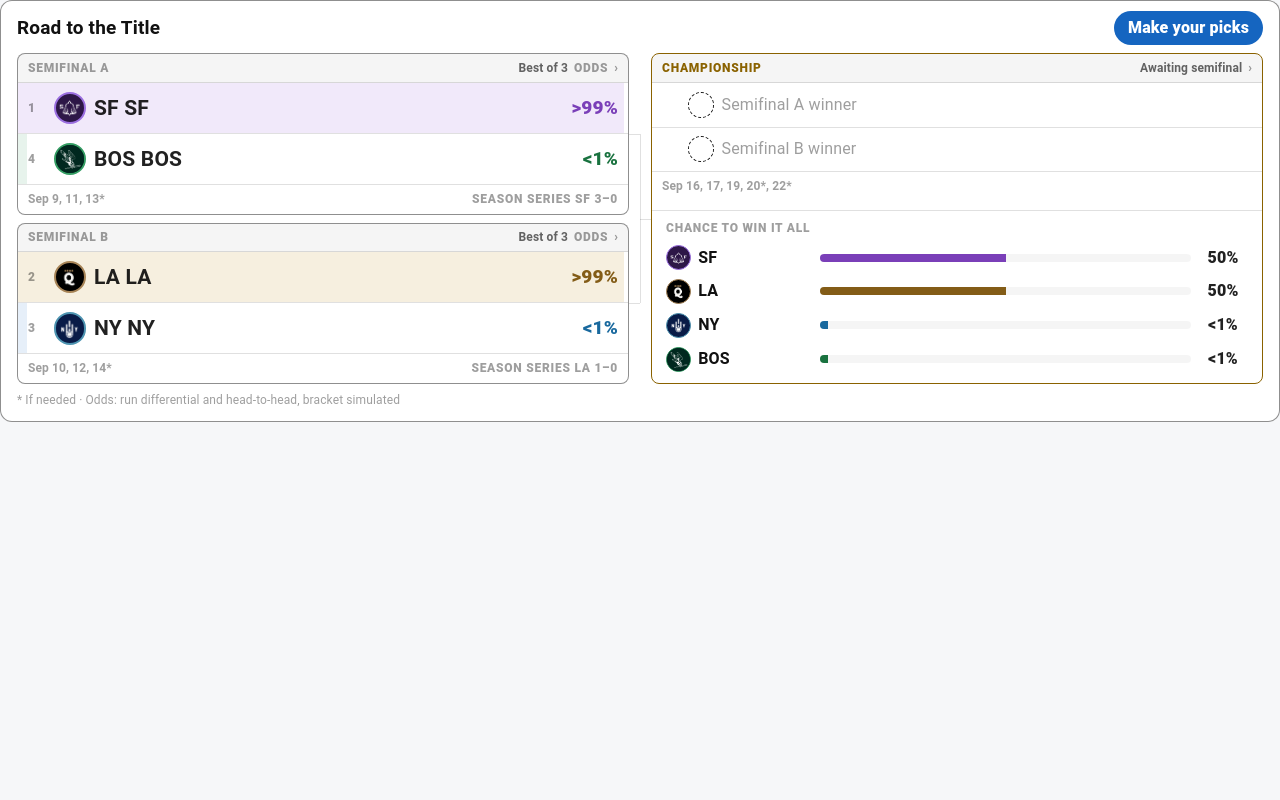
Test: picking a series › says how many have voted once, from the biggest question
The width and height of the screenshot is (1280, 800).
Click the button "Make your picks".
click(1188, 28)  # box x1=1114 y1=11 x2=1263 y2=45
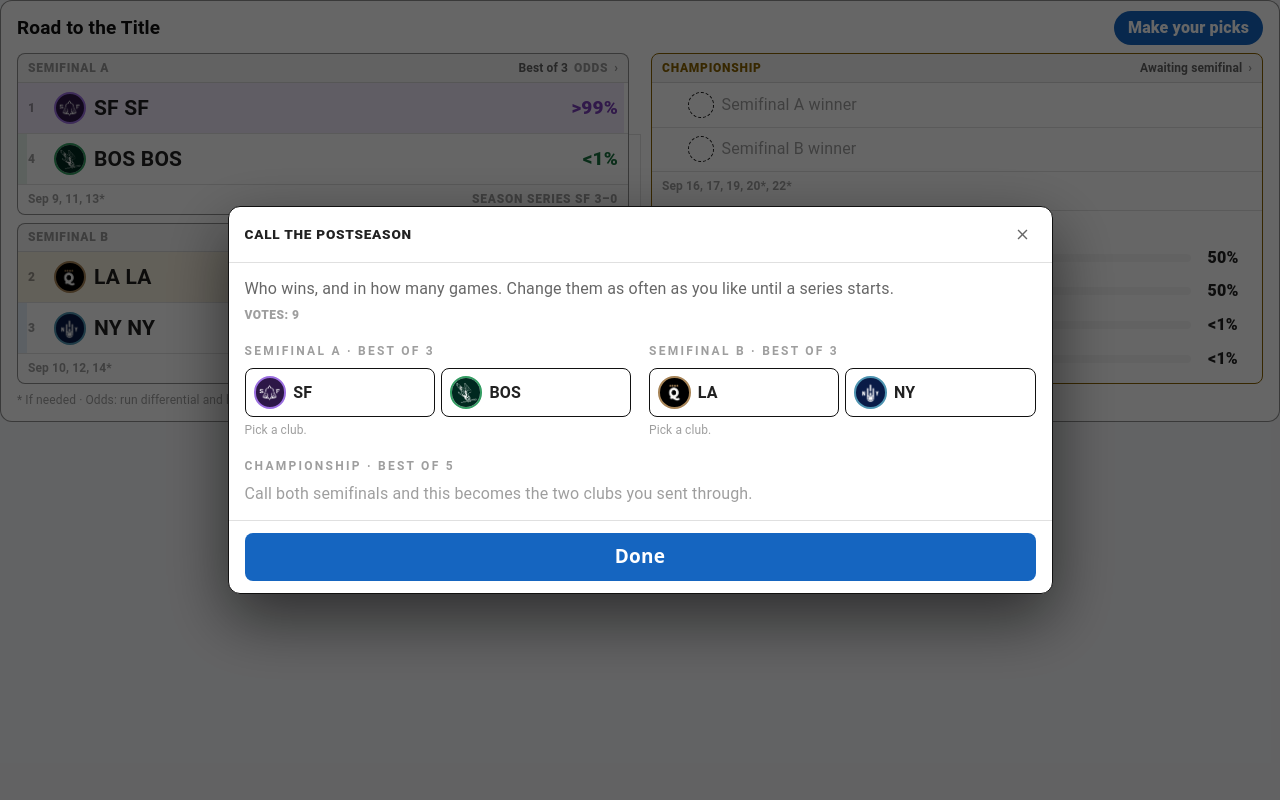
Expected: the text "Call the postseason" is shown, x1=244 y1=226 x2=412 y2=242
Expected: the text "Votes: 9" is shown, x1=244 y1=308 x2=300 y2=322
